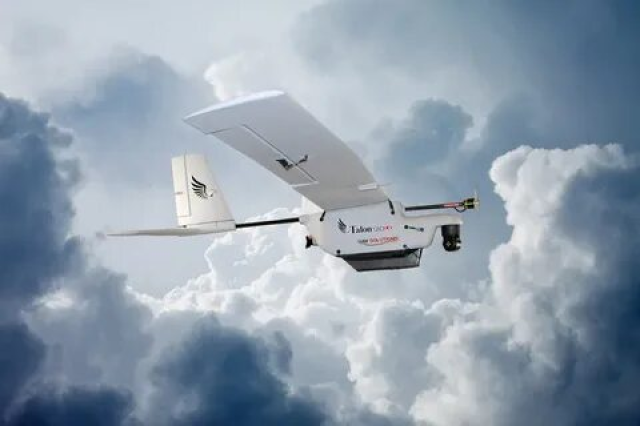military drone: (106, 90, 480, 272)
